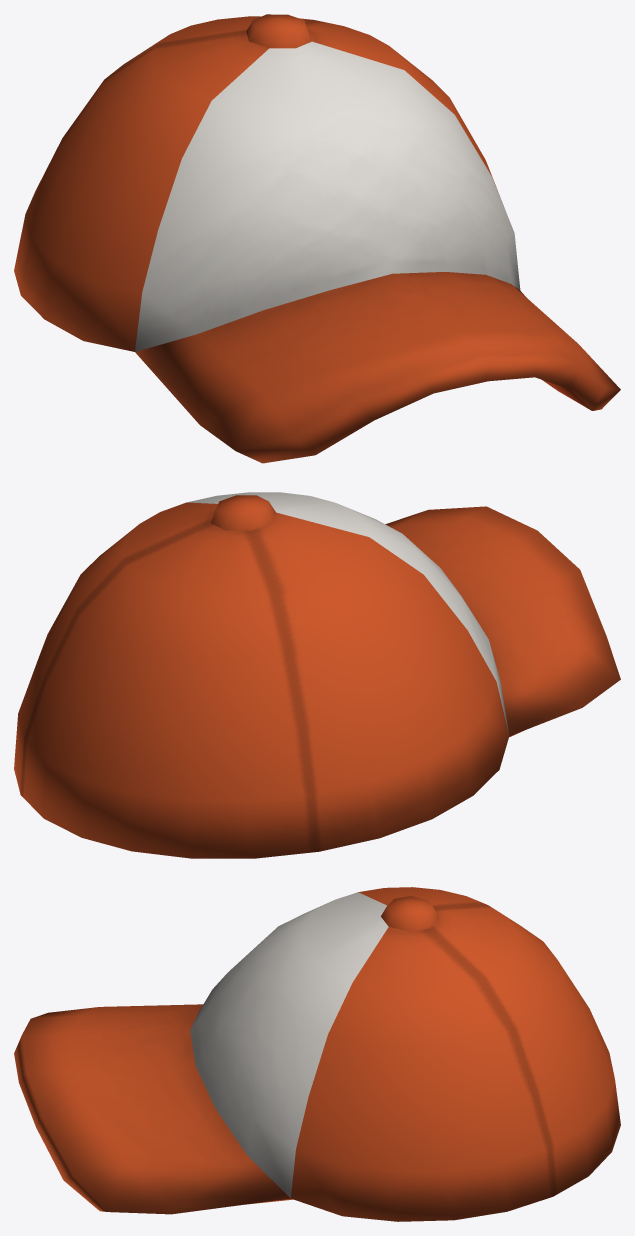
File: hat_baseball.fbx
3 views of the same model, one above another, from view 1: azimuth 30°, elevation 25°; view 2: azimuth 150°, elevation 25°; view 3: azimuth 270°, elevation 25° (orthographic). The views are drawn at different scales.
Parts seen in each view (by area): view 1: hat_baseball; view 2: hat_baseball; view 3: hat_baseball.
Boxes of the visible parts, x1=… form: hat_baseball: x1=14, y1=14, x2=620, y2=463; hat_baseball: x1=14, y1=492, x2=620, y2=858; hat_baseball: x1=14, y1=887, x2=620, y2=1221.
Bounding box in the file's own units: 2.01 × 1.28 × 2.82.
